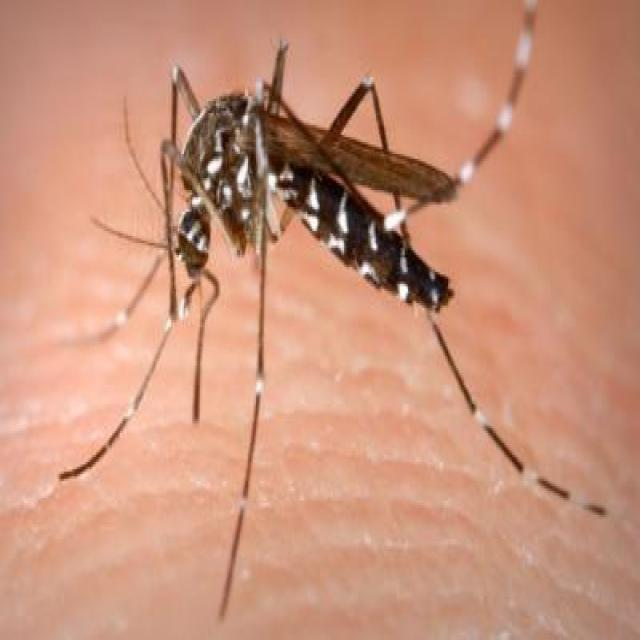antennae: (87, 83, 178, 264)
body: (180, 93, 452, 315)
insect: (54, 29, 606, 622)
legs: (418, 296, 607, 537), (388, 2, 550, 226), (58, 266, 202, 490), (222, 195, 280, 619)
mouthpart: (176, 250, 223, 421)
wings: (248, 105, 455, 204)
